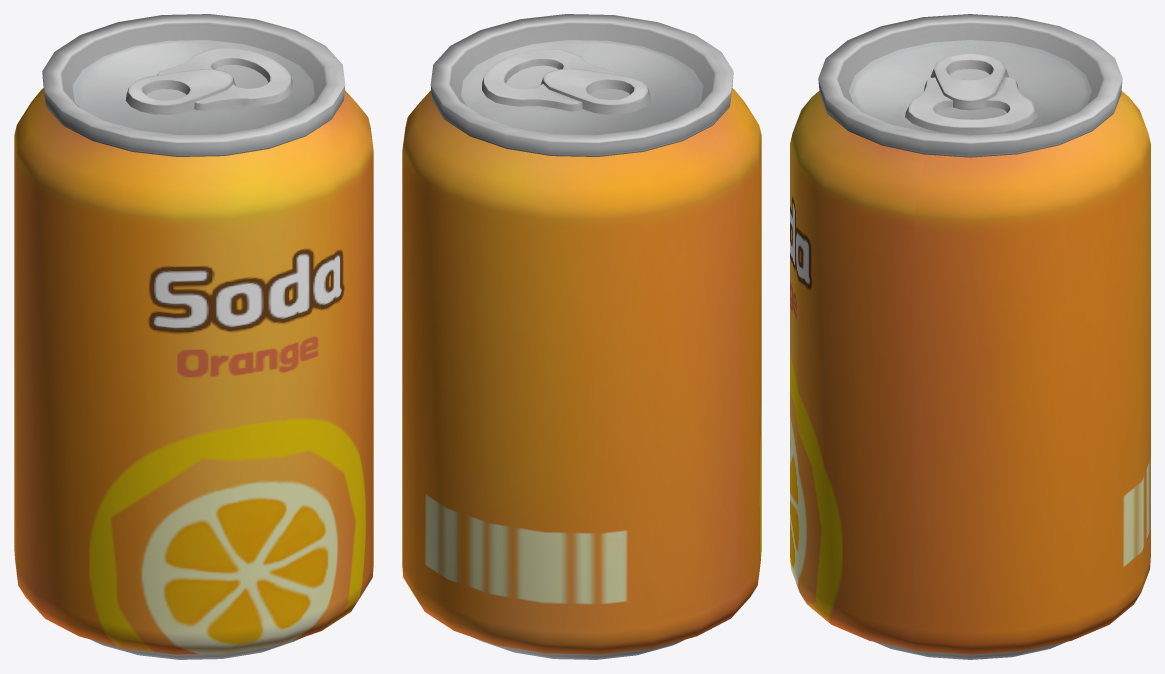
Rendered from YiLaGuan.FBX.
3 views of the same model, side by side, from view 1: azimuth 30°, elevation 25°; view 2: azimuth 150°, elevation 25°; view 3: azimuth 270°, elevation 25° (orthographic).
Parts seen in each view (by area): view 1: YiLaGuan; view 2: YiLaGuan; view 3: YiLaGuan.
Boxes of the visible parts, bbox=[...] form: YiLaGuan: bbox=[14, 14, 373, 659]; YiLaGuan: bbox=[402, 14, 761, 659]; YiLaGuan: bbox=[790, 14, 1150, 659].
Bounding box in the file's own units: 60.49 × 97.48 × 60.49.
